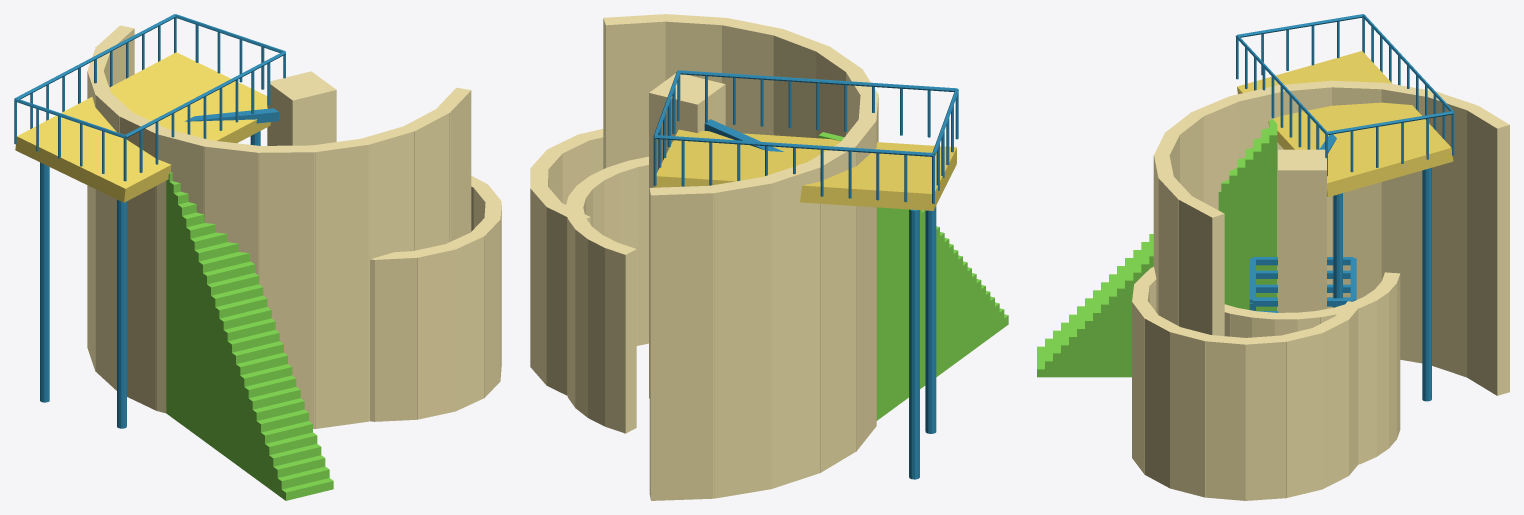
Rendered from folie_tag_010.glb.
3 views of the same model, side by side, from view 1: azimuth 30°, elevation 25°; view 2: azimuth 150°, elevation 25°; view 3: azimuth 270°, elevation 25° (orthographic). The views are drawn at different scales.
Parts seen in each view (by area): view 1: folie_tag_010_00_curve, folie_tag_010_stairs, folie_tag_010_03_curve, folie_tag_010_01_plate, folie_tag_010_line, folie_tag_010_core; view 2: folie_tag_010_00_curve, folie_tag_010_02_curve, folie_tag_010_line, folie_tag_010_stairs, folie_tag_010_01_plate, folie_tag_010_03_curve, folie_tag_010_core; view 3: folie_tag_010_00_curve, folie_tag_010_03_curve, folie_tag_010_stairs, folie_tag_010_01_plate, folie_tag_010_02_curve, folie_tag_010_line, folie_tag_010_core, folie_tag_010_04_cage.
Boxes of the visible parts, bbox=[...] form: folie_tag_010_00_curve: bbox=[87, 25, 471, 428]; folie_tag_010_stairs: bbox=[166, 172, 333, 500]; folie_tag_010_03_curve: bbox=[370, 176, 501, 421]; folie_tag_010_01_plate: bbox=[15, 52, 270, 202]; folie_tag_010_line: bbox=[14, 14, 285, 428]; folie_tag_010_core: bbox=[267, 71, 336, 145]; folie_tag_010_00_curve: bbox=[603, 14, 878, 500]; folie_tag_010_02_curve: bbox=[565, 156, 648, 433]; folie_tag_010_line: bbox=[653, 70, 958, 479]; folie_tag_010_stairs: bbox=[818, 132, 1008, 420]; folie_tag_010_01_plate: bbox=[655, 129, 956, 210]; folie_tag_010_03_curve: bbox=[530, 129, 603, 395]; folie_tag_010_core: bbox=[649, 73, 725, 398]; folie_tag_010_00_curve: bbox=[1153, 80, 1509, 395]; folie_tag_010_03_curve: bbox=[1132, 267, 1358, 500]; folie_tag_010_stairs: bbox=[1037, 119, 1277, 377]; folie_tag_010_01_plate: bbox=[1237, 51, 1453, 197]; folie_tag_010_02_curve: bbox=[1224, 272, 1400, 464]; folie_tag_010_line: bbox=[1235, 14, 1454, 401]; folie_tag_010_core: bbox=[1278, 149, 1326, 312]; folie_tag_010_04_cage: bbox=[1249, 257, 1356, 312].
Size of the model in its own units: 10.33 by 7.33 by 10.62.
